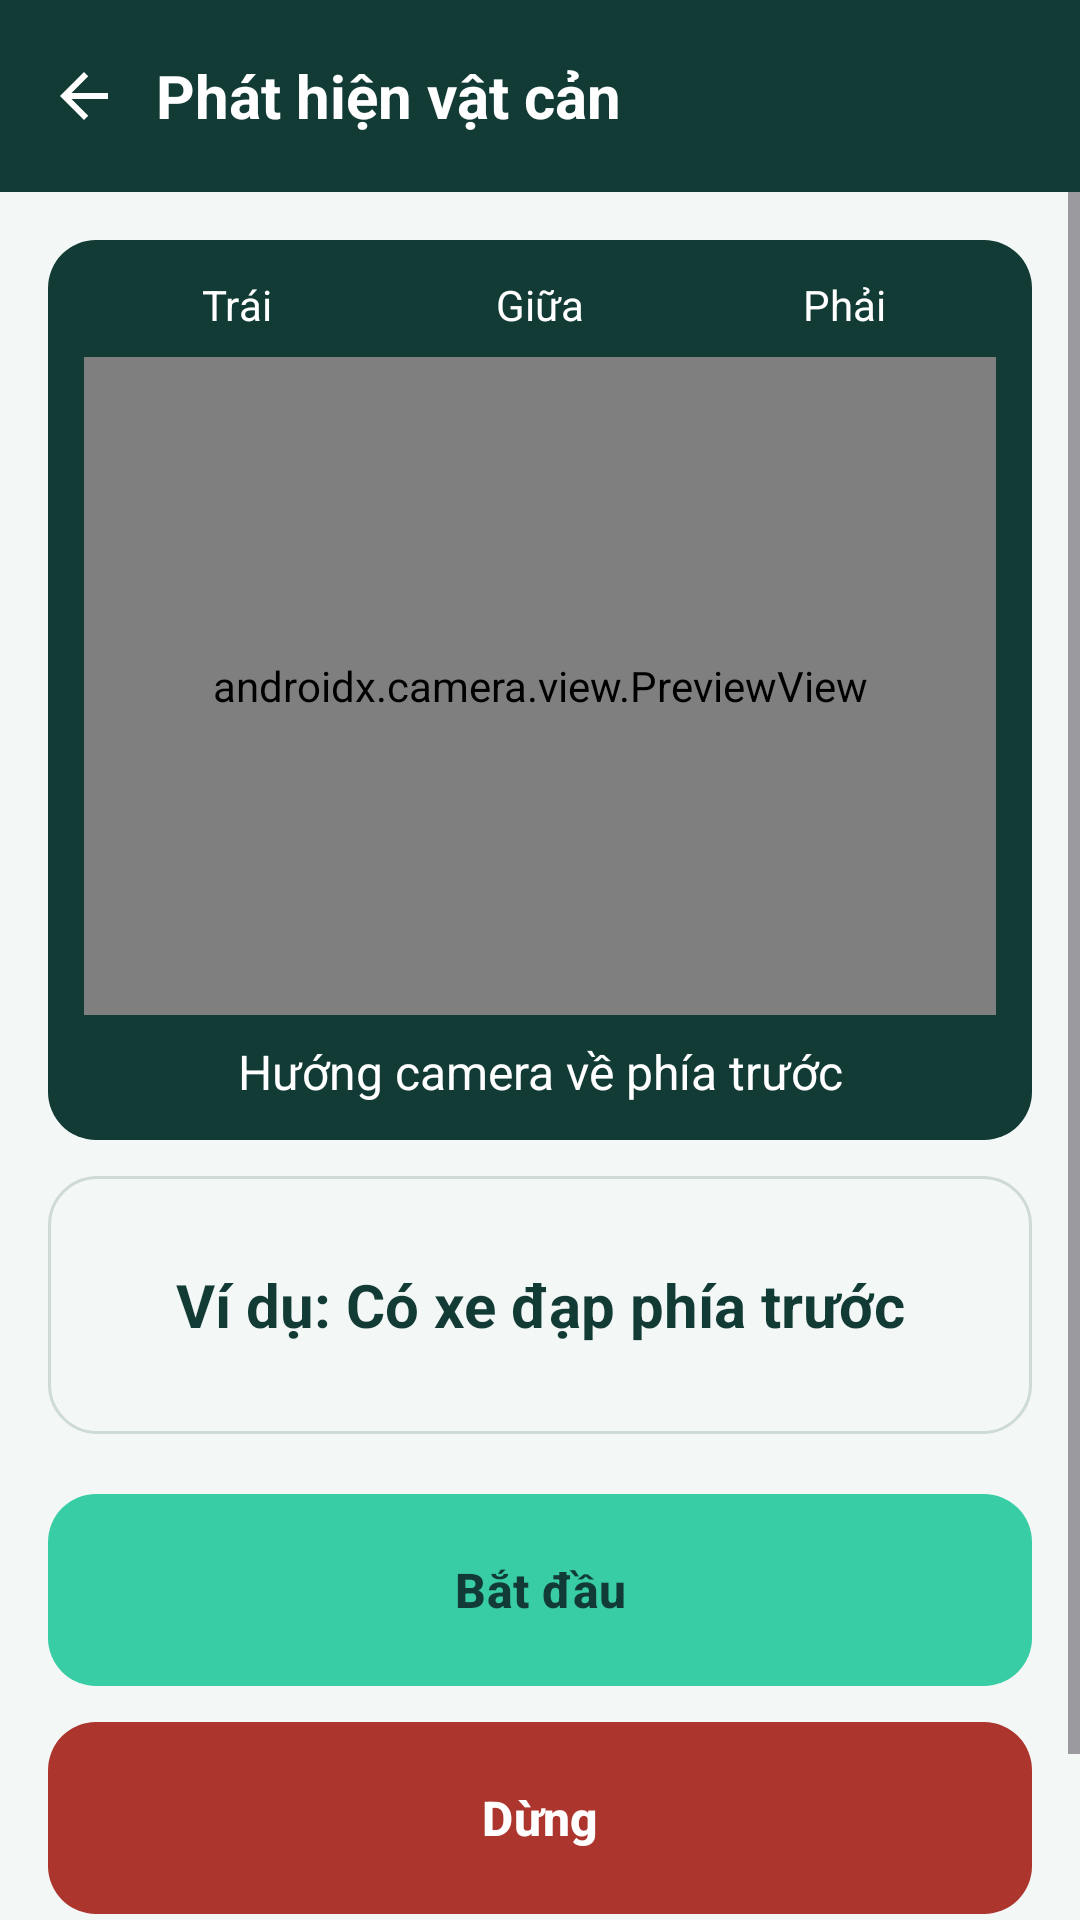

Point at icon controls on the screen. Image size 1080x1920, points as (x=x, y=y).
Quay lại màn hình chính: (x=84, y=96)
